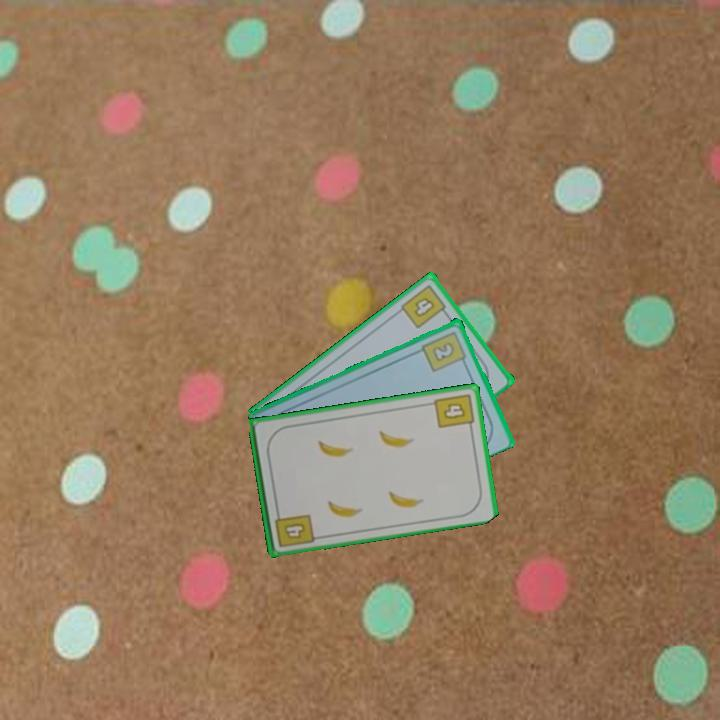2b: (419, 327, 470, 375)
4b: (397, 281, 452, 331), (271, 506, 317, 550), (431, 390, 476, 433)
